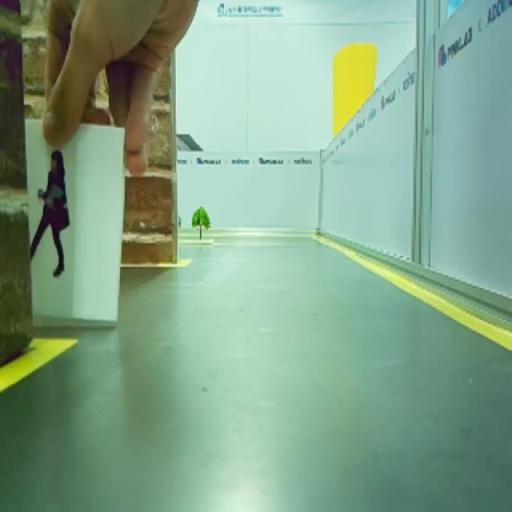human: (30, 150, 70, 276)
